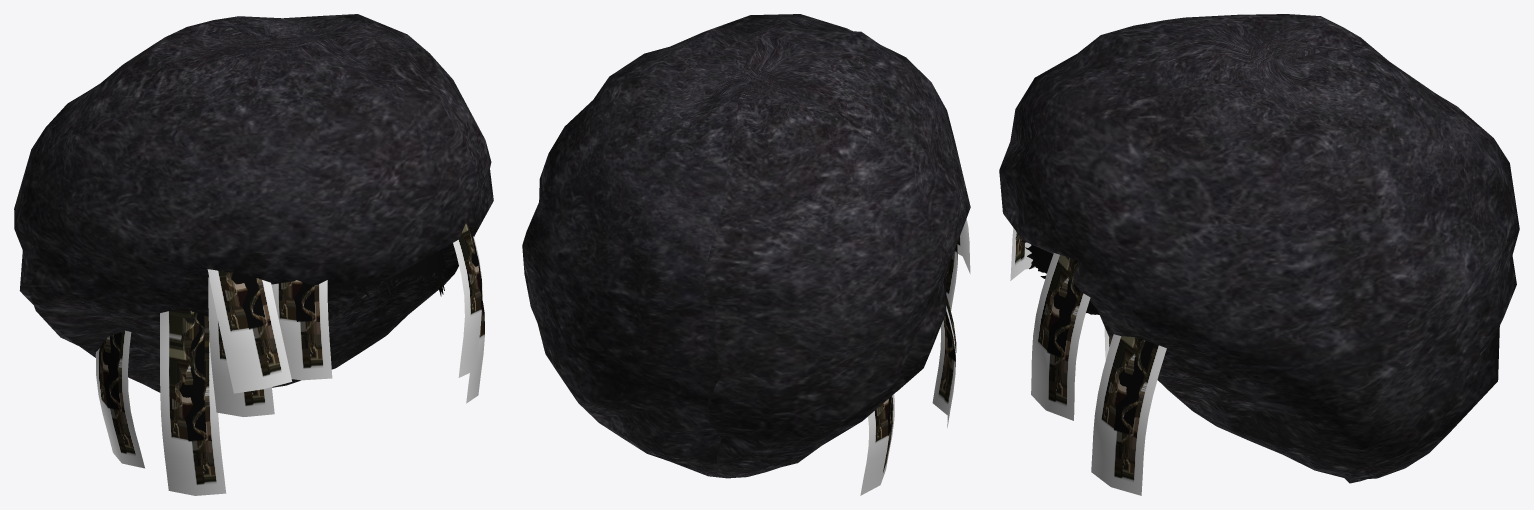
File: Hair2-v2.fbx
3 renders of one model, left to right at view 1: azimuth 30°, elevation 25°; view 2: azimuth 150°, elevation 25°; view 3: azimuth 270°, elevation 25°, orthographic. The views are drawn at different scales.
Visible parts, largest first — view 1: pSphere1, pPlane1, pPlane8, pPlane6, pPlane9, pPlane4, pPlane5, babyhair, pPlane7; view 2: pSphere1, pPlane9, pPlane1, pPlane4; view 3: pSphere1, pPlane7, pPlane5, pPlane6, babyhair.
Part boxes in pixels (box(x1,y1,x2,y2)): pSphere1: box(14, 14, 493, 392); pPlane1: box(160, 308, 226, 495); pPlane8: box(207, 269, 292, 393); pPlane6: box(271, 280, 332, 380); pPlane9: box(95, 330, 144, 468); pPlane4: box(208, 277, 274, 416); pPlane5: box(453, 221, 482, 377); babyhair: box(327, 250, 447, 311); pPlane7: box(466, 301, 484, 403); pSphere1: box(522, 14, 970, 478); pPlane9: box(860, 394, 894, 495); pPlane1: box(932, 295, 956, 427); pPlane4: box(946, 243, 957, 310); pSphere1: box(999, 14, 1519, 483); pPlane7: box(1091, 334, 1166, 495); pPlane5: box(1031, 253, 1090, 420); pPlane6: box(1010, 228, 1035, 280); babyhair: box(1015, 234, 1099, 314).
Bounding box in the file's own units: 235 × 218 × 234.
